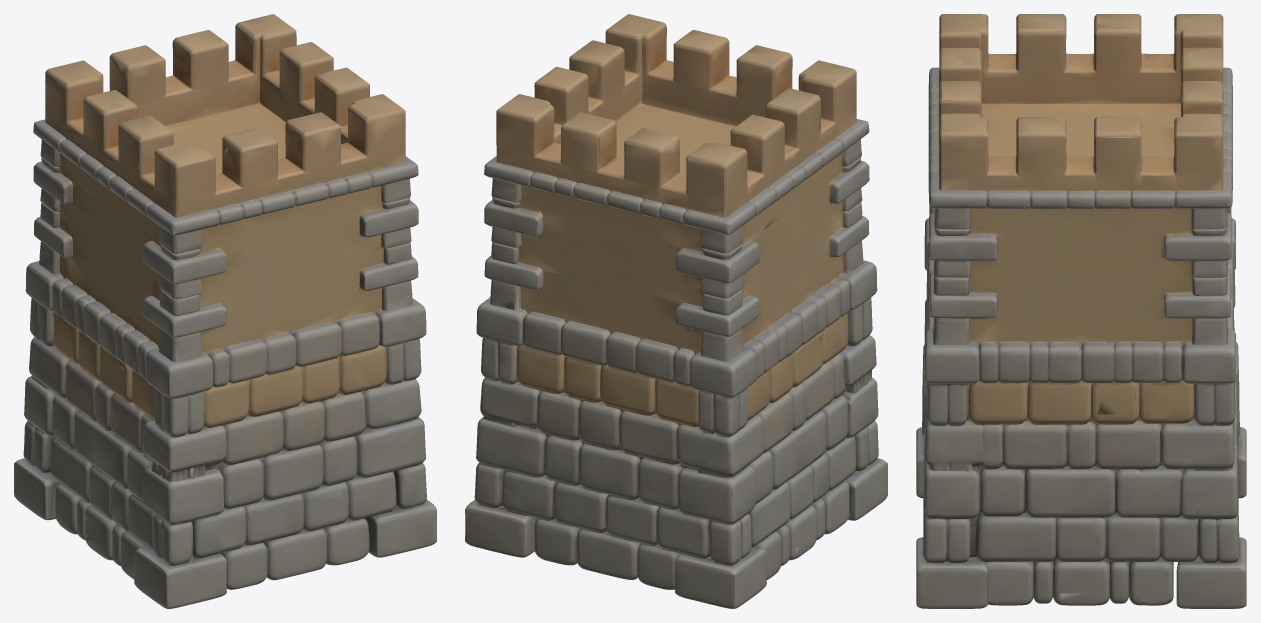
File: Destruction_Debris_Tile_opt.glb
The picture shows the model from 3 angles, left to right: view 1: azimuth 30°, elevation 25°; view 2: azimuth 150°, elevation 25°; view 3: azimuth 270°, elevation 25°; orthographic projection. The views are drawn at different scales.
Parts seen in each view (by area): view 1: material; view 2: material; view 3: material.
Boxes of the visible parts, <box> form: material: <box>14,14,436,608</box>; material: <box>465,14,887,608</box>; material: <box>916,14,1246,608</box>.
Bounding box in the file's own units: 0.586 × 0.8955 × 0.5753.
1 material, 1 textured.
